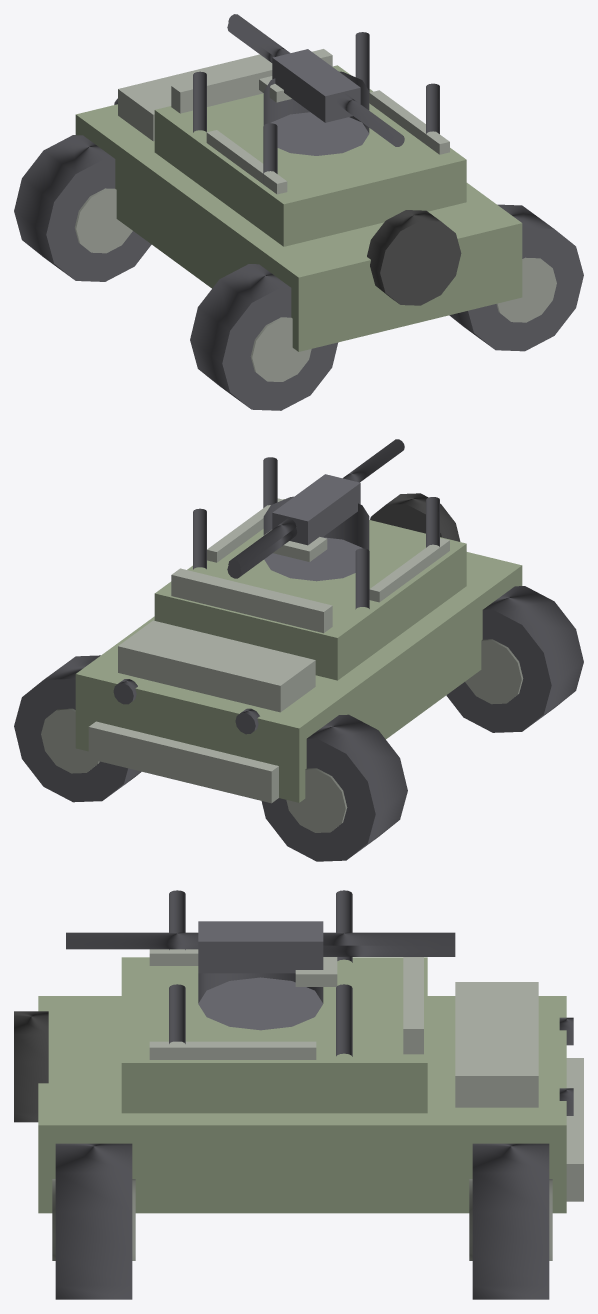
The model's file is buggy.glb.
3 renders of one model, top to bottom at view 1: azimuth 30°, elevation 25°; view 2: azimuth 150°, elevation 25°; view 3: azimuth 270°, elevation 25°, orthographic. The views are drawn at different scales.
Parts seen in each view (by area): view 1: buggy; view 2: buggy; view 3: buggy.
Part boxes in pixels (bbox=[...]): buggy: bbox=[14, 14, 583, 410]; buggy: bbox=[14, 439, 583, 861]; buggy: bbox=[14, 890, 583, 1299].
Bounding box in the file's own units: 3.56 × 2.31 × 4.1.
